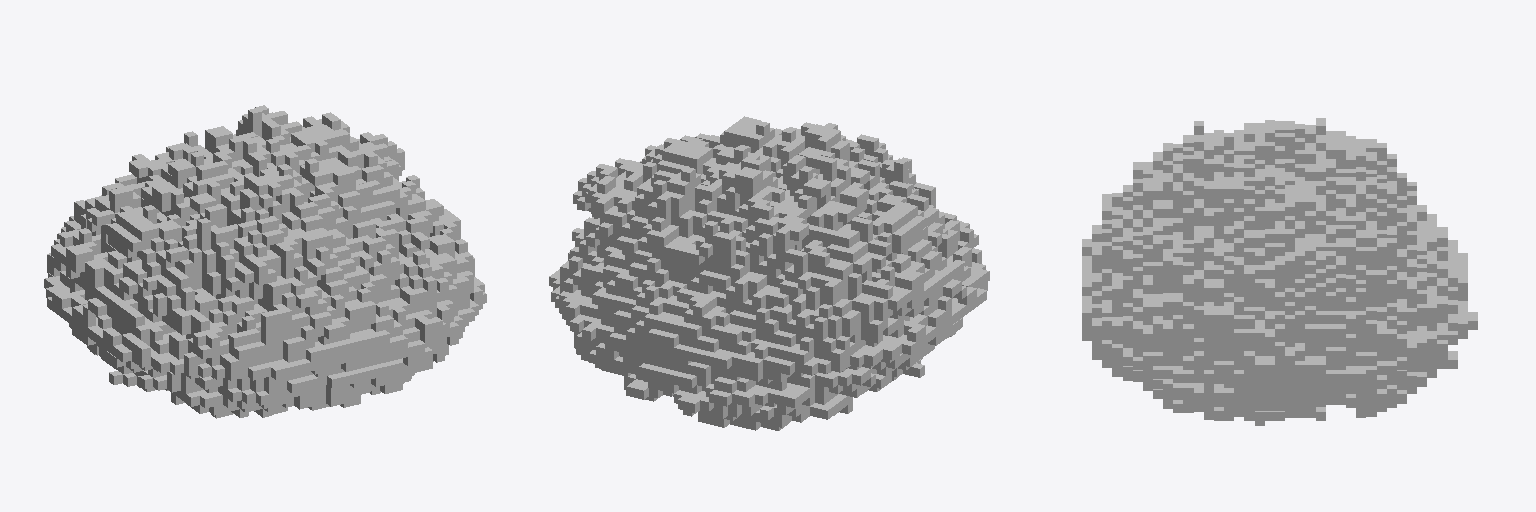
Rendered from kust.obj.
3 renders of one model, left to right at view 1: azimuth 30°, elevation 25°; view 2: azimuth 150°, elevation 25°; view 3: azimuth 270°, elevation 25°, orthographic.
Visible parts, largest first — view 1: object 1; view 2: object 1; view 3: object 1.
Part boxes in pixels (x1,y1,x2,y2): object 1: (44, 105, 486, 418); object 1: (549, 116, 989, 430); object 1: (1082, 118, 1477, 425).
Size of the model in its own units: 4 by 2.3 by 3.9.